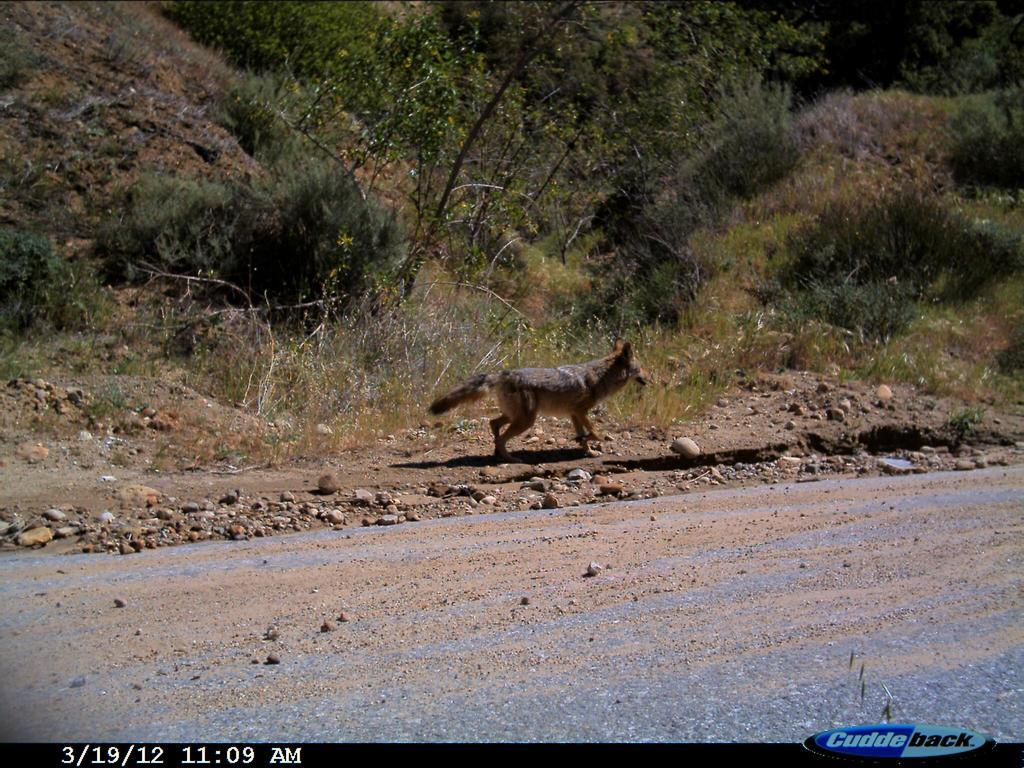coyote: (428, 329, 662, 465)
